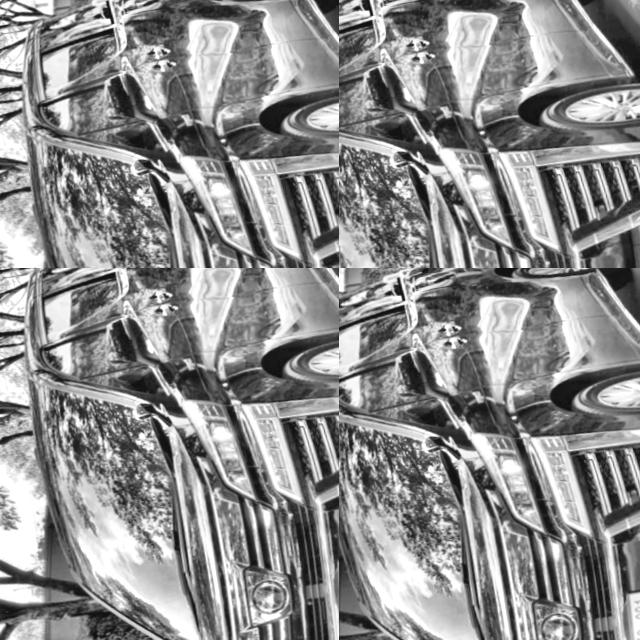license-plate: (536, 0, 640, 153), (620, 585, 640, 640)
